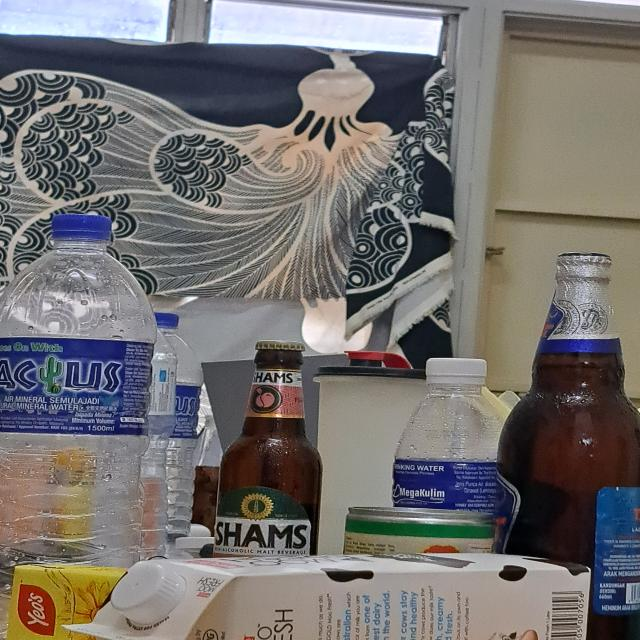can: (344, 505, 494, 554)
drink carton: (61, 551, 592, 640), (7, 564, 131, 640)
glass bottle: (500, 251, 640, 640), (212, 342, 324, 554)
plastic bottle: (0, 236, 157, 563), (393, 382, 506, 516), (155, 328, 204, 536)
plastic bottle cap: (112, 564, 186, 625), (50, 213, 112, 241), (425, 358, 487, 383), (154, 312, 179, 328)
